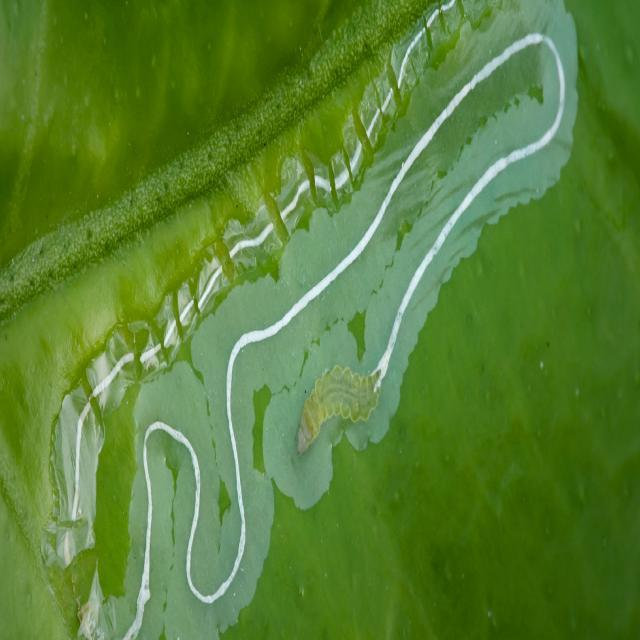Serpentine leafminer: (35, 0, 587, 640)
